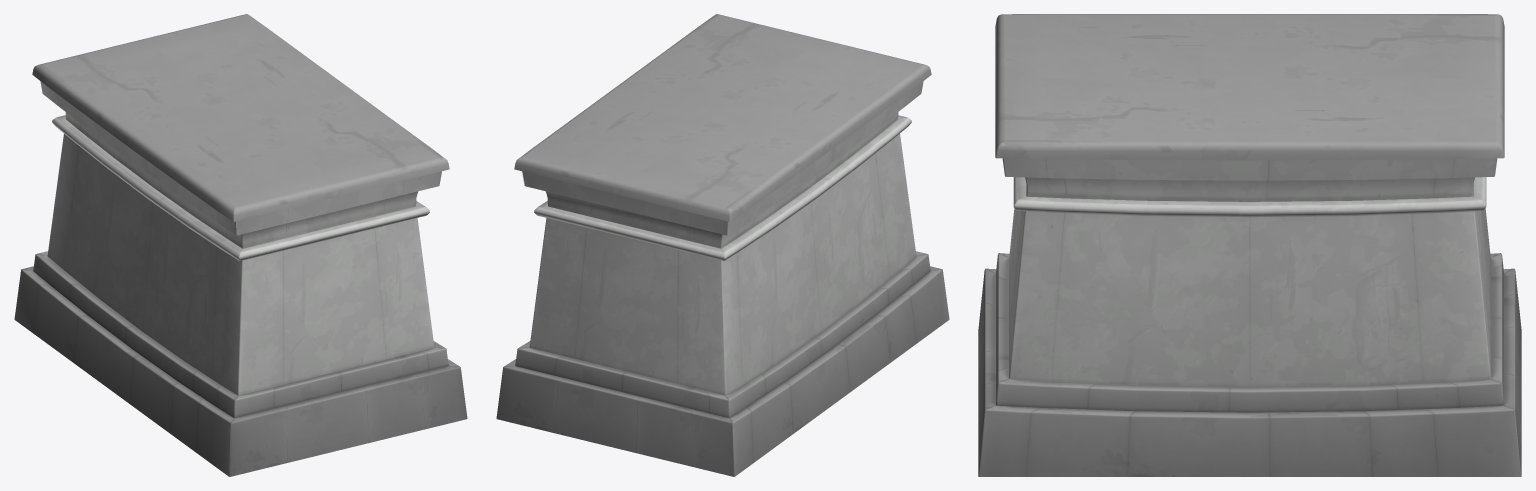
Rendered from ParkPedestal03_1.FBX.
3 views of the same model, side by side, from view 1: azimuth 30°, elevation 25°; view 2: azimuth 150°, elevation 25°; view 3: azimuth 270°, elevation 25° (orthographic). The views are drawn at different scales.
Visible parts, largest first — view 1: ParkPedestal03_1; view 2: ParkPedestal03_1; view 3: ParkPedestal03_1.
Part boxes in pixels (bbox=[...]): ParkPedestal03_1: bbox=[14, 14, 467, 476]; ParkPedestal03_1: bbox=[496, 14, 949, 476]; ParkPedestal03_1: bbox=[978, 14, 1521, 476].
Size of what is drawn, in the model's own units: 2.42 by 2.5 by 3.78.
